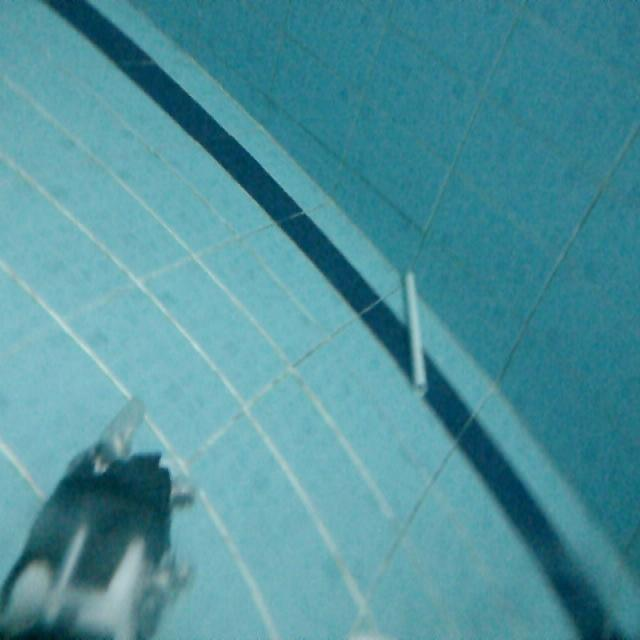Cube: (399, 268, 436, 396)
